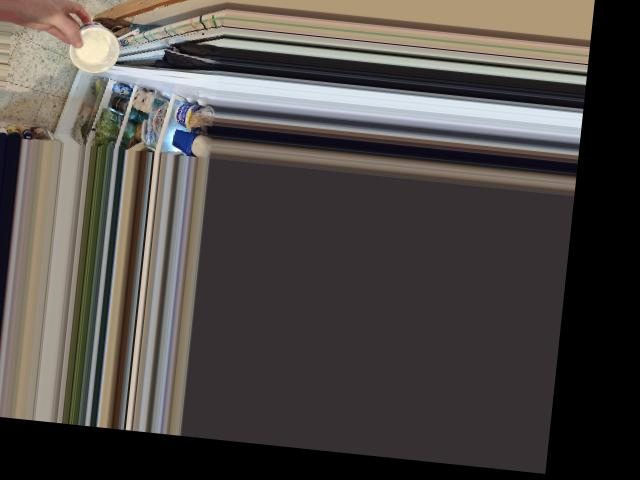cotage: (63, 16, 122, 71)
